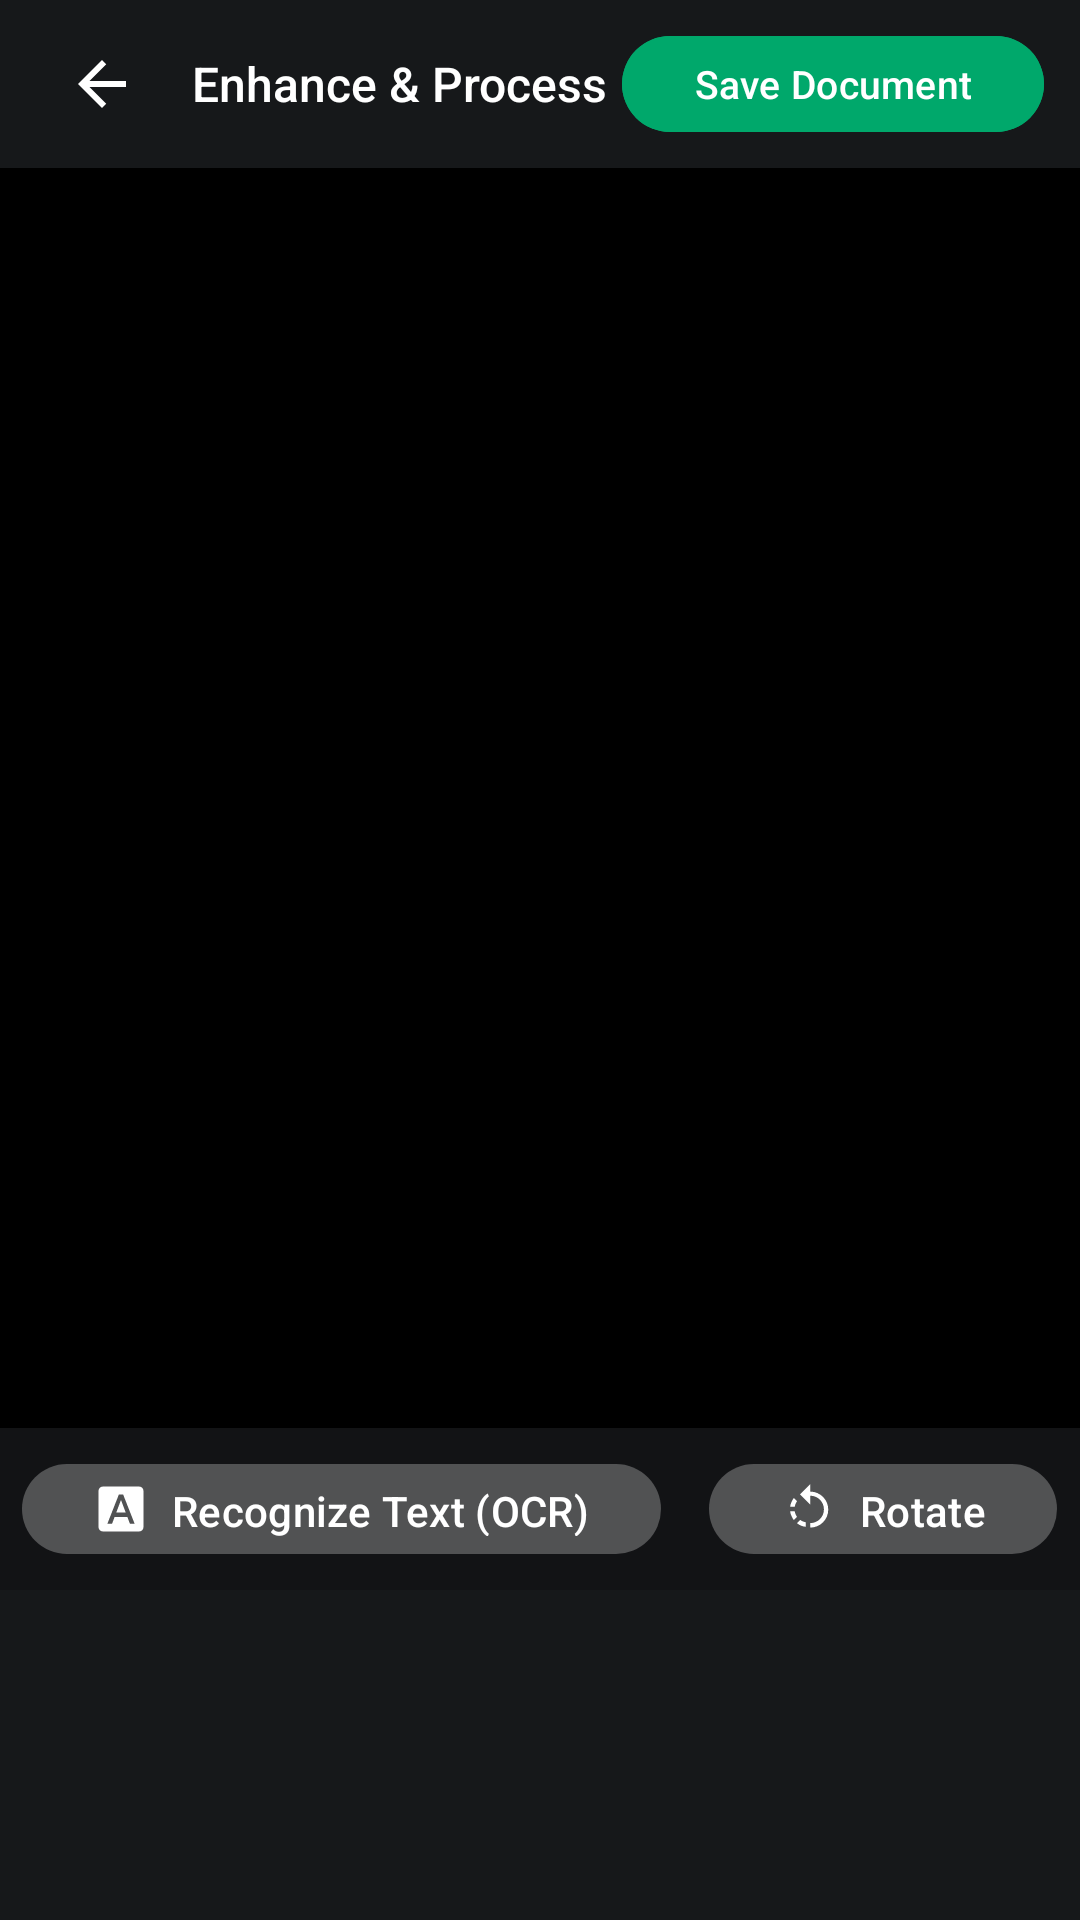

Icon bounding boxes for this 1080*1920 phone screenshot, format bbox=(x1, y1, x2, y2):
back: bbox=(78, 60, 126, 108)
